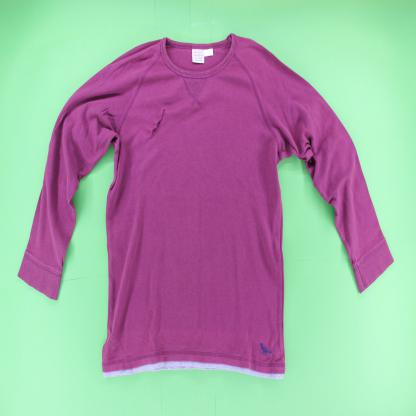hole: (149, 106, 167, 137)
